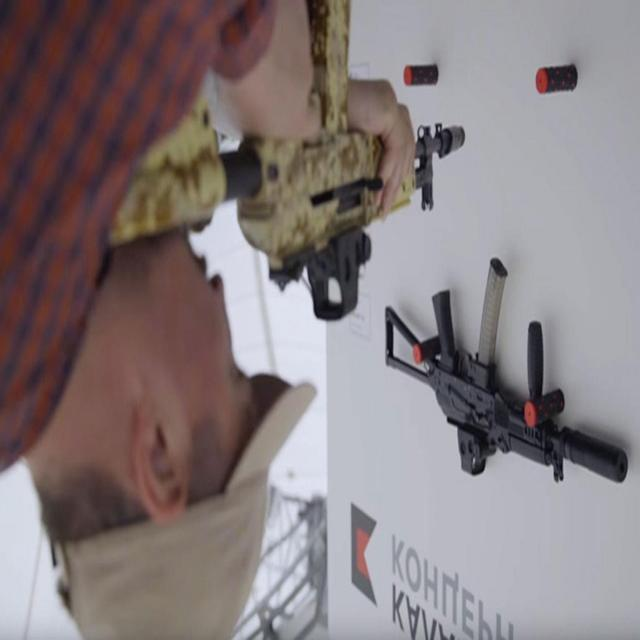weapon: (105, 0, 468, 323), (384, 258, 629, 487)
